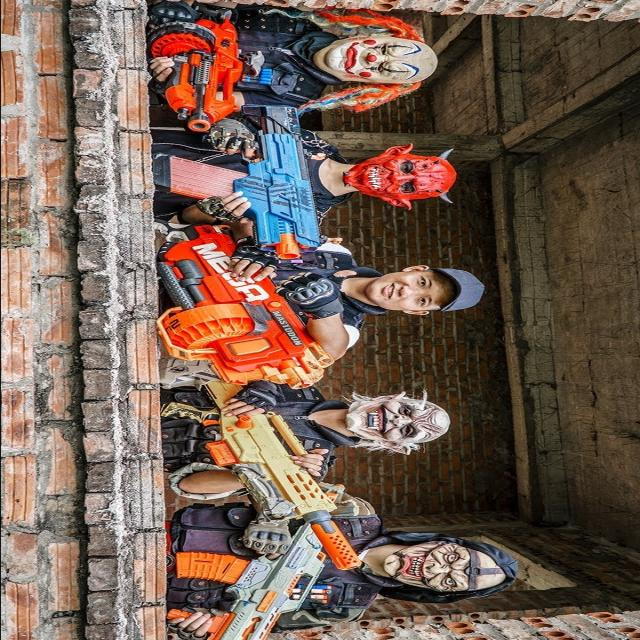Nerf gun: (142, 374, 370, 573), (147, 221, 328, 391), (163, 476, 344, 640), (142, 101, 322, 265), (143, 7, 250, 134)
